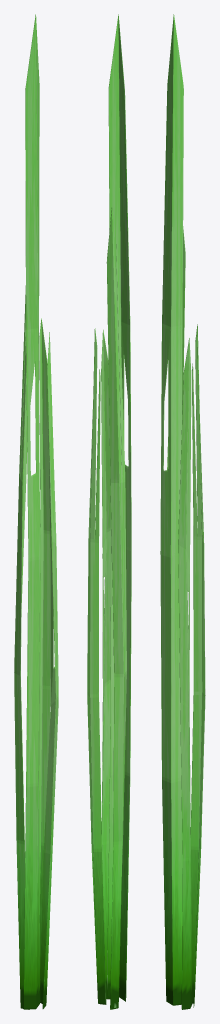
Rendered from Seaweed2.fbx.
3 views of the same model, side by side, from view 1: azimuth 30°, elevation 25°; view 2: azimuth 150°, elevation 25°; view 3: azimuth 330°, elevation 25° (orthographic).
Visible parts, largest first — view 1: Seaweed2; view 2: Seaweed2; view 3: Seaweed2.
Part boxes in pixels (box(x1,y1,x2,y2)): Seaweed2: box(14, 14, 58, 1009); Seaweed2: box(87, 14, 131, 1009); Seaweed2: box(160, 14, 205, 1009).
Size of the model in its own units: 15.81 by 409 by 13.78.
